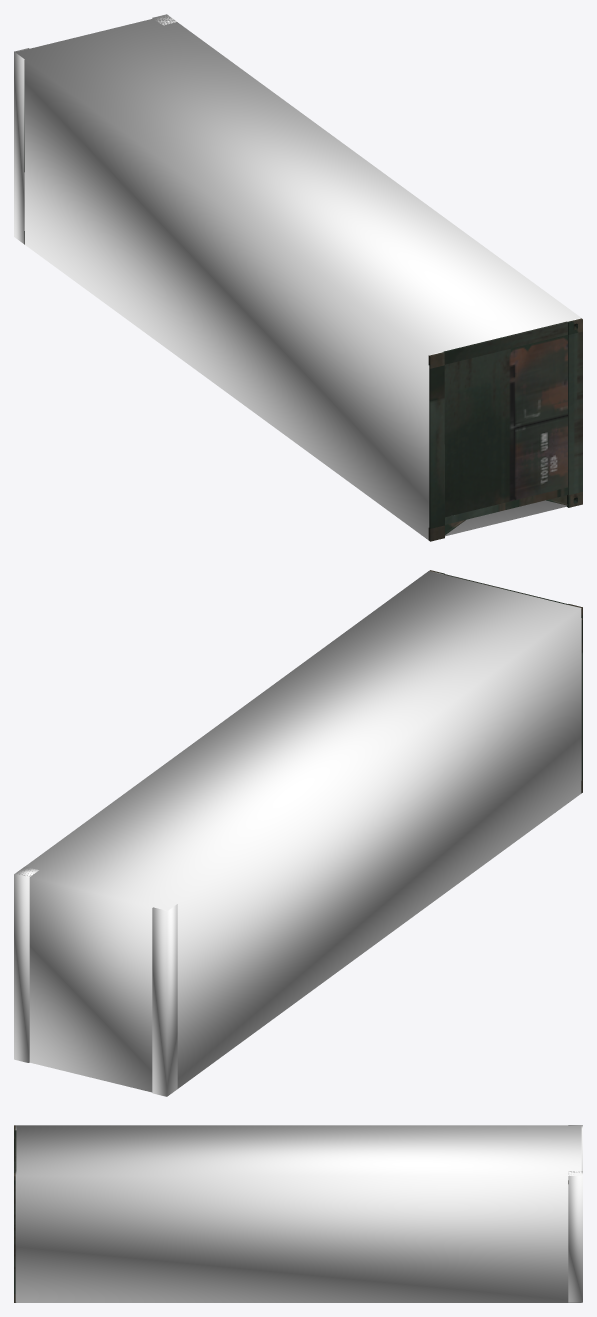
The model's file is defaultcontainergreen.glb.
3 renders of one model, top to bottom at view 1: azimuth 30°, elevation 25°; view 2: azimuth 150°, elevation 25°; view 3: azimuth 270°, elevation 25°, orthographic. The views are drawn at different scales.
Parts seen in each view (by area): view 1: DefaultContainerGreen; view 2: DefaultContainerGreen; view 3: DefaultContainerGreen.
Part boxes in pixels (x1,y1,x2,y2): DefaultContainerGreen: (14, 14, 582, 541); DefaultContainerGreen: (14, 570, 582, 1096); DefaultContainerGreen: (14, 1125, 582, 1302).
Size of the model in its own units: 2.6 by 3.02 by 12.27.
Materials: 2 (1 with a texture image).
